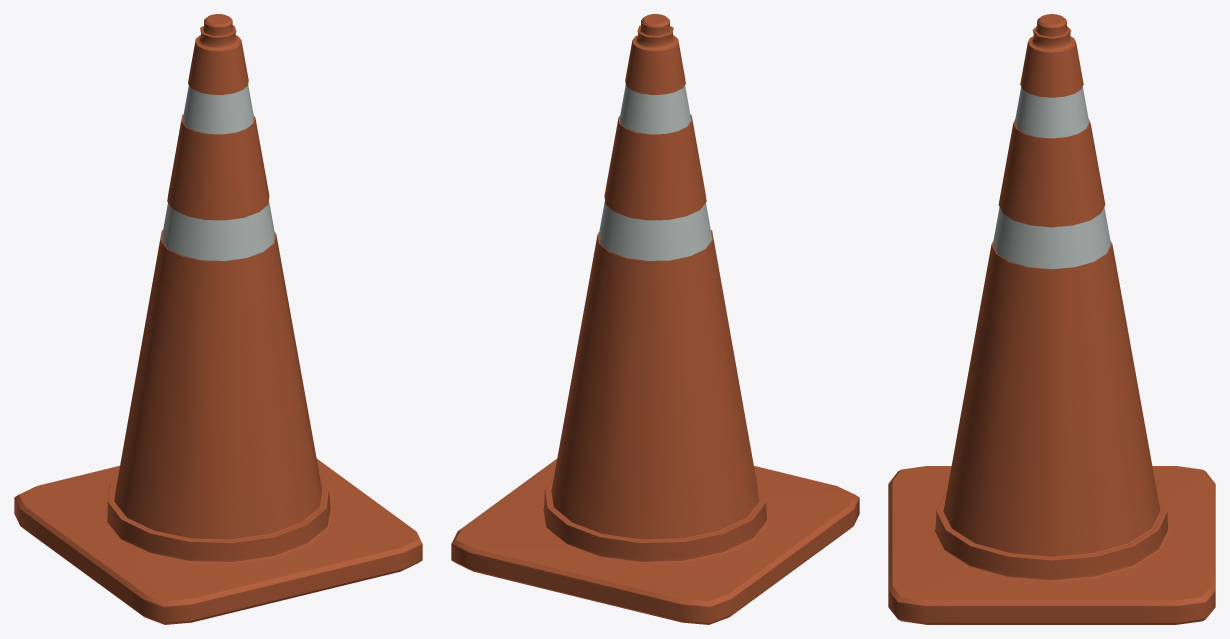
The model's file is parking_cone.fbx.
3 views of the same model, side by side, from view 1: azimuth 30°, elevation 25°; view 2: azimuth 150°, elevation 25°; view 3: azimuth 270°, elevation 25° (orthographic). The views are drawn at different scales.
Visible parts, largest first — view 1: pCube2; view 2: pCube2; view 3: pCube2.
Boxes of the visible parts, left/top/right/bottom form: pCube2: left=14, top=14, right=422, bottom=624; pCube2: left=451, top=14, right=859, bottom=624; pCube2: left=888, top=14, right=1215, bottom=624.
Bounding box in the file's own units: 2.79 × 5.07 × 2.79.
